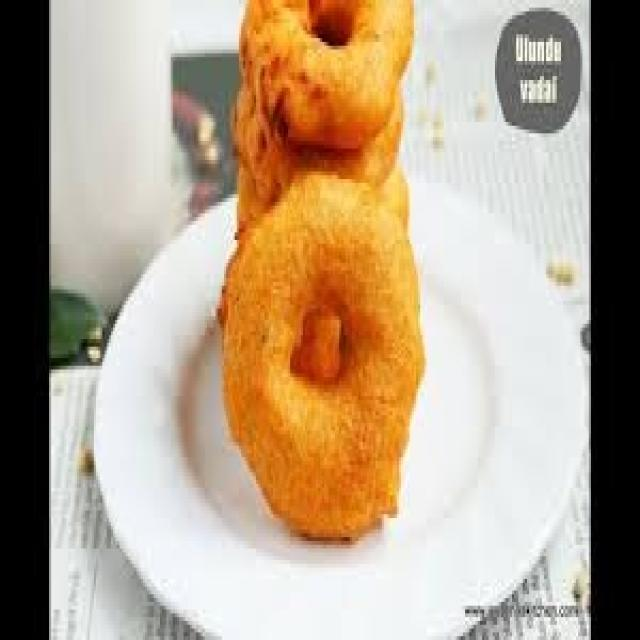medu vadai: (217, 0, 428, 564), (236, 85, 406, 238), (284, 232, 365, 484), (269, 2, 403, 143), (348, 0, 414, 84)
